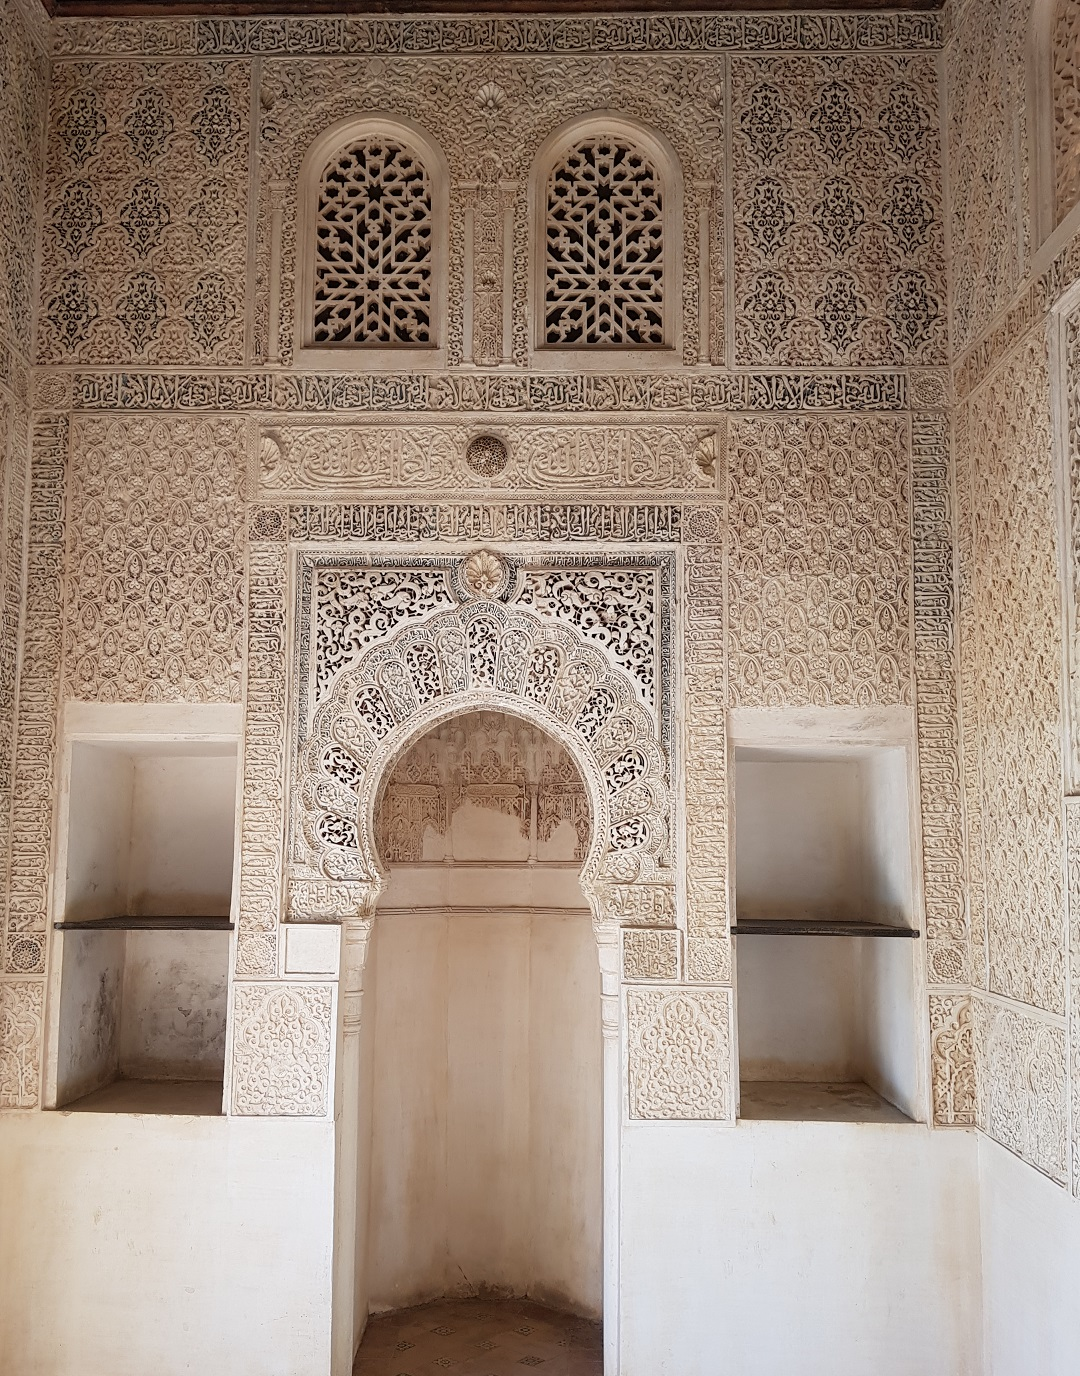arco-herradura: (346, 684, 625, 933)
